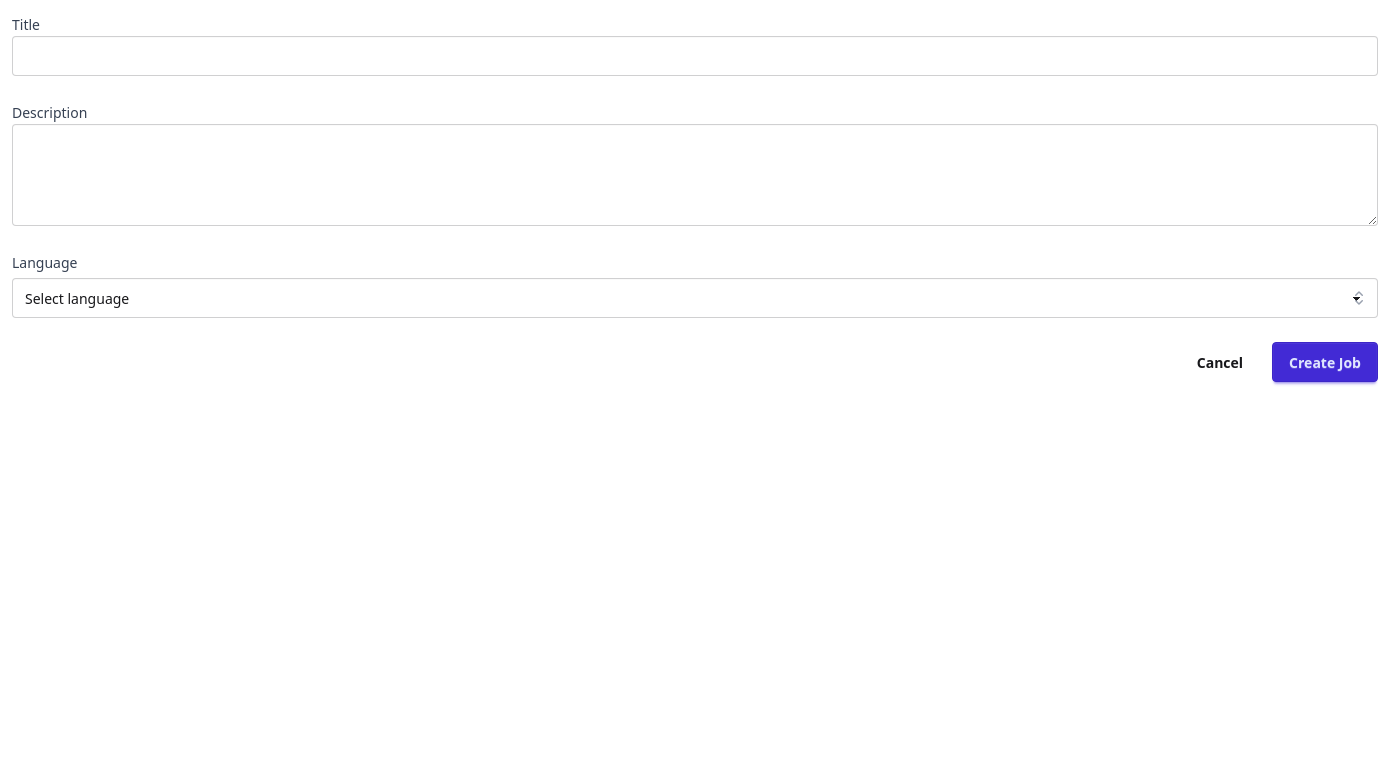
JobForm › Form Validation › handles submission error and shows error message
Type "Software Engineer" into the field labelled "Title".
click(695, 56); type("Software Engineer")  # box [12, 36, 1378, 76]
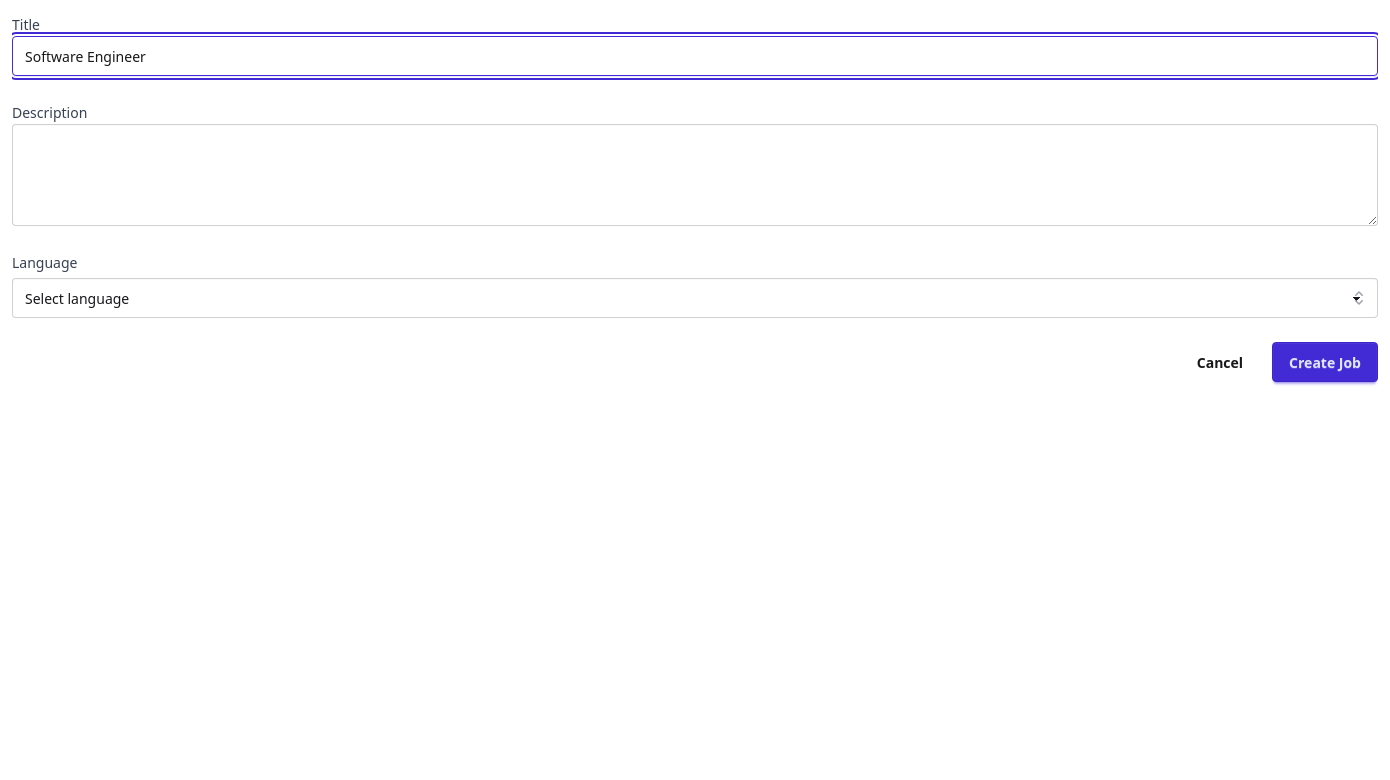
Type "Job description here" into the text box labelled "Description".
click(695, 175); type("Job description here")  # box [12, 124, 1378, 226]
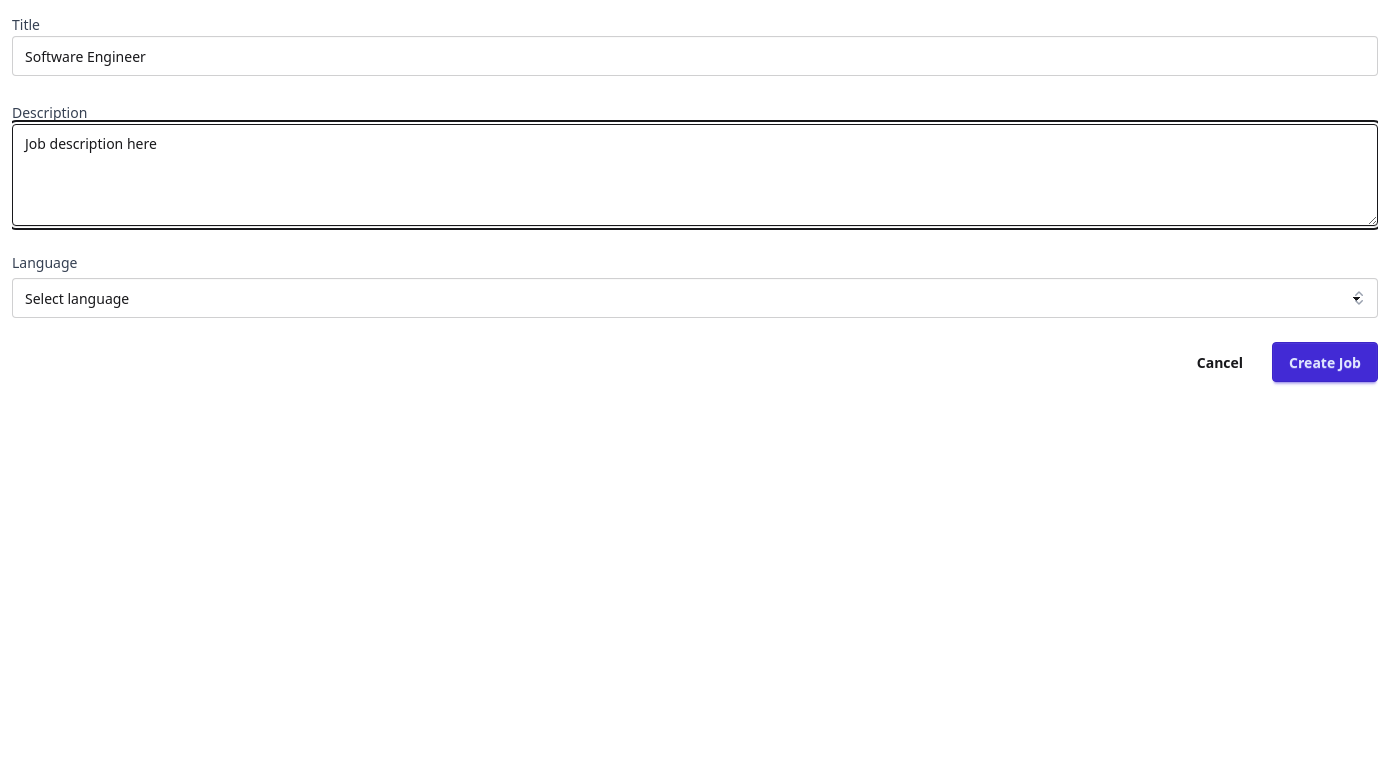
Click the button "Select language".
click(77, 298)  # box [12, 278, 1378, 318]
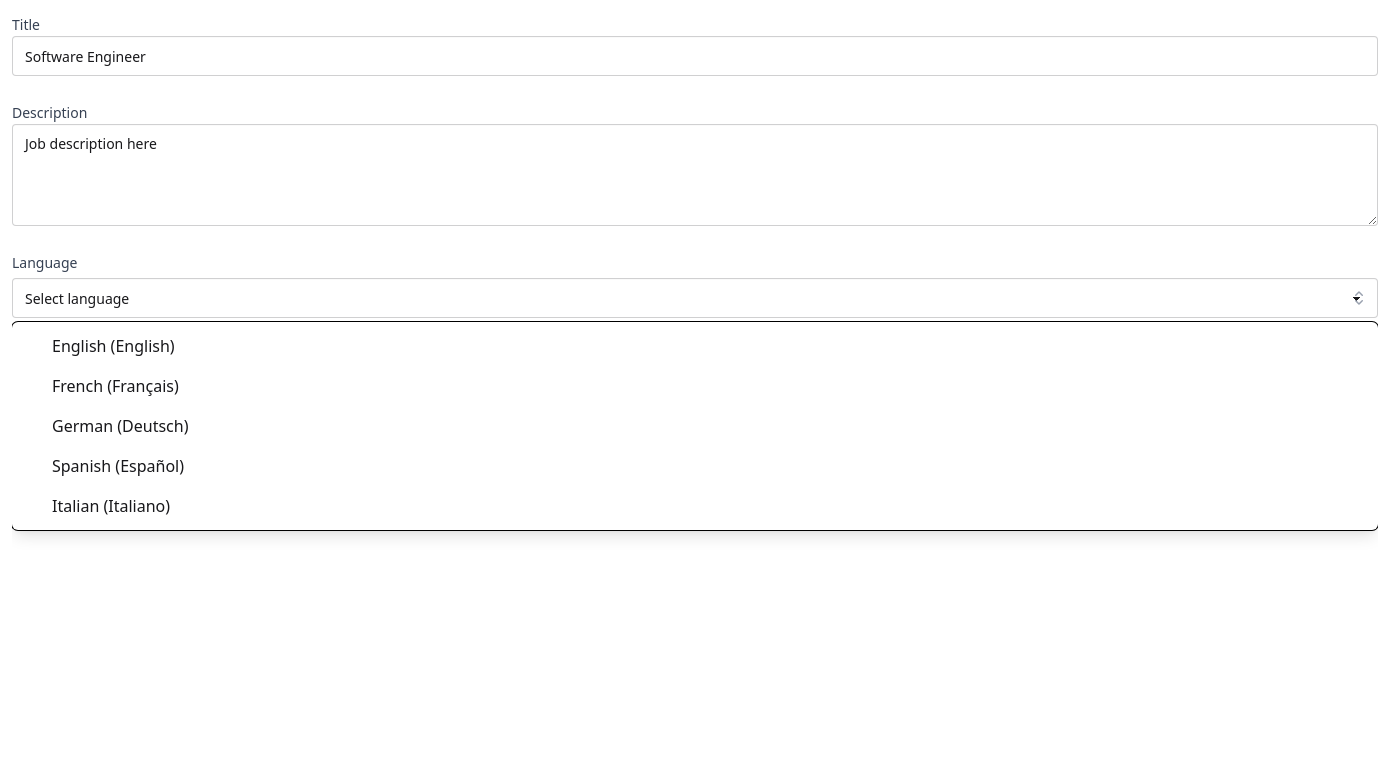
Click the option "English (English)".
click(113, 346)  # box [52, 335, 175, 357]
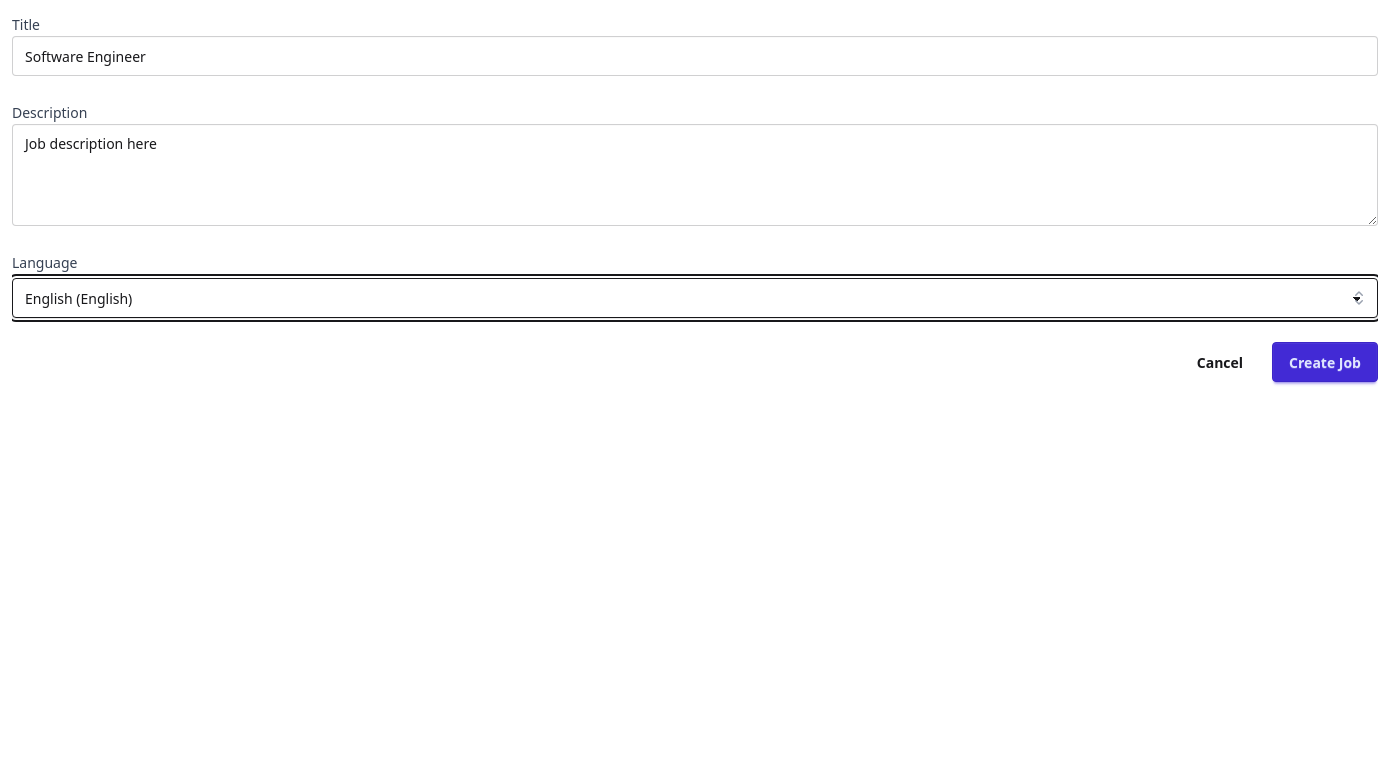
Click the button "Create Job".
click(1325, 362)  # box [1272, 342, 1378, 382]
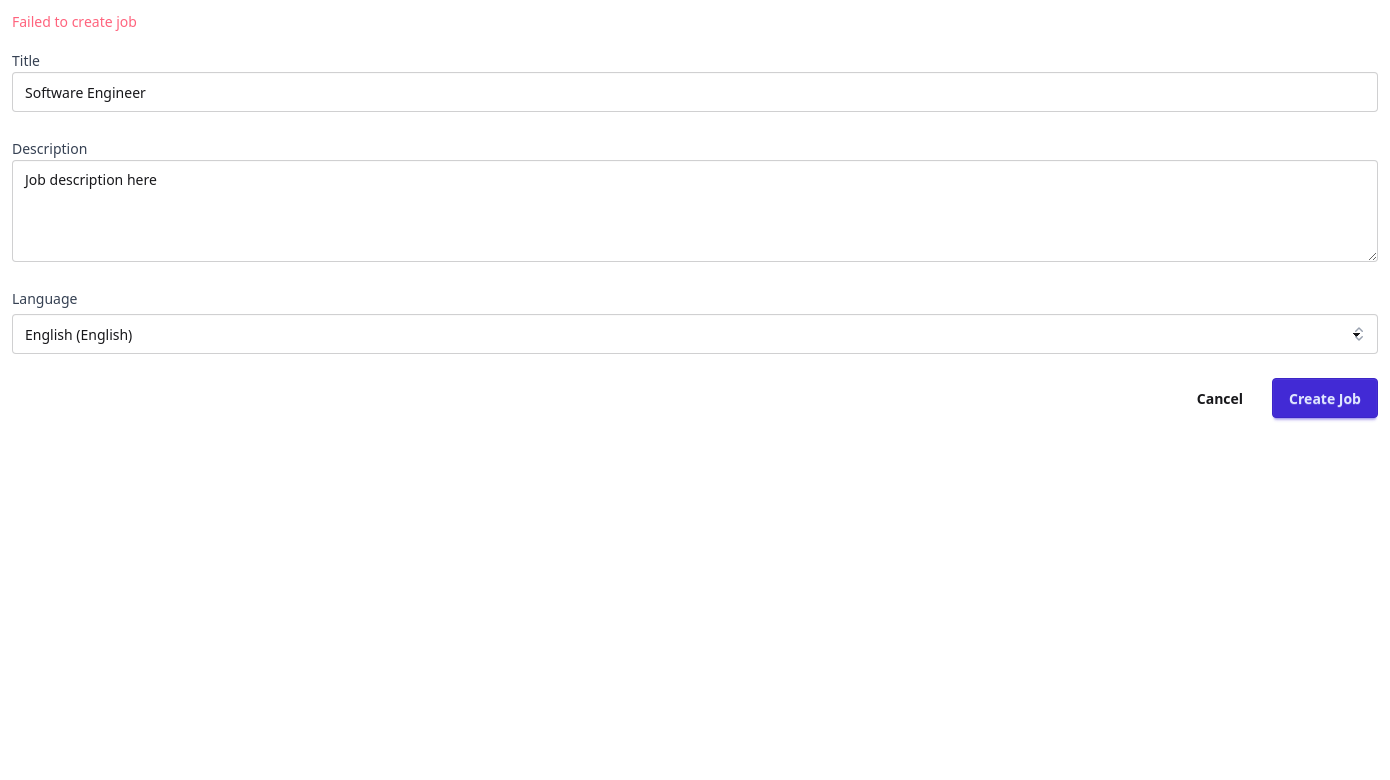
expect the message reads "Failed to create job": met, box [12, 12, 137, 31]
